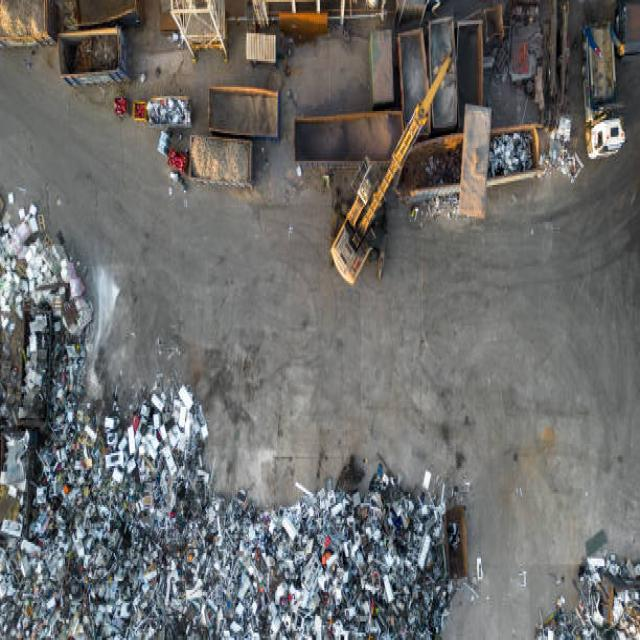plastic: (51, 479, 447, 640)
